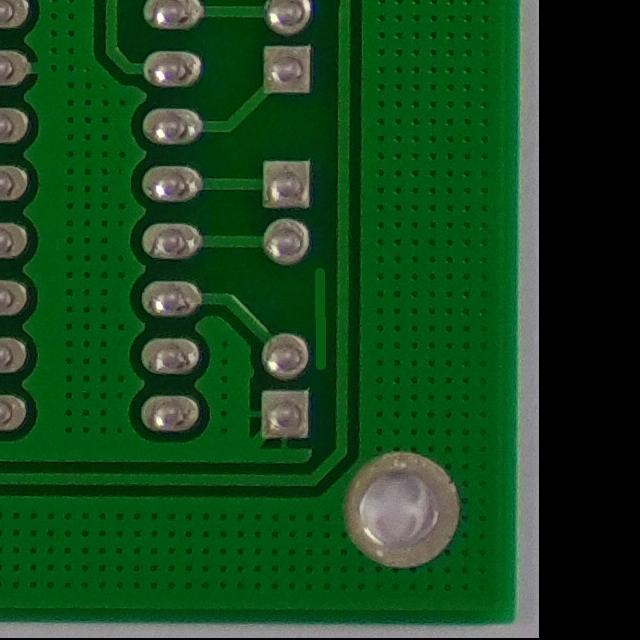spurious_copper: (299, 261, 341, 380)
